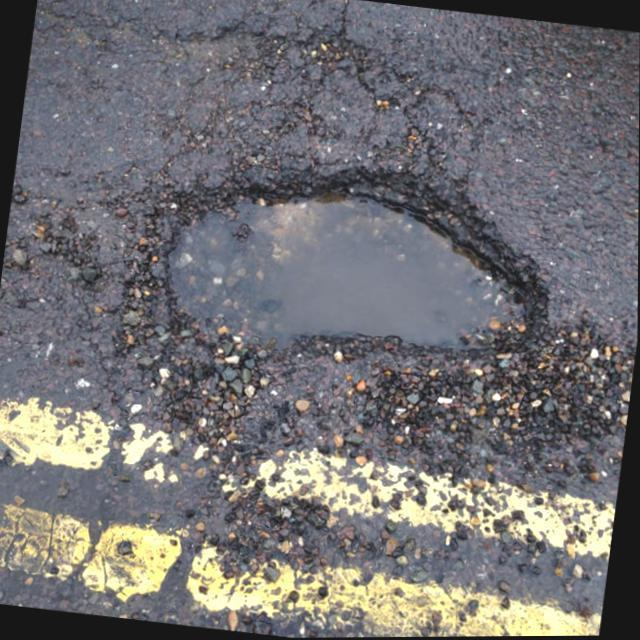Pothole: (128, 181, 536, 436)
